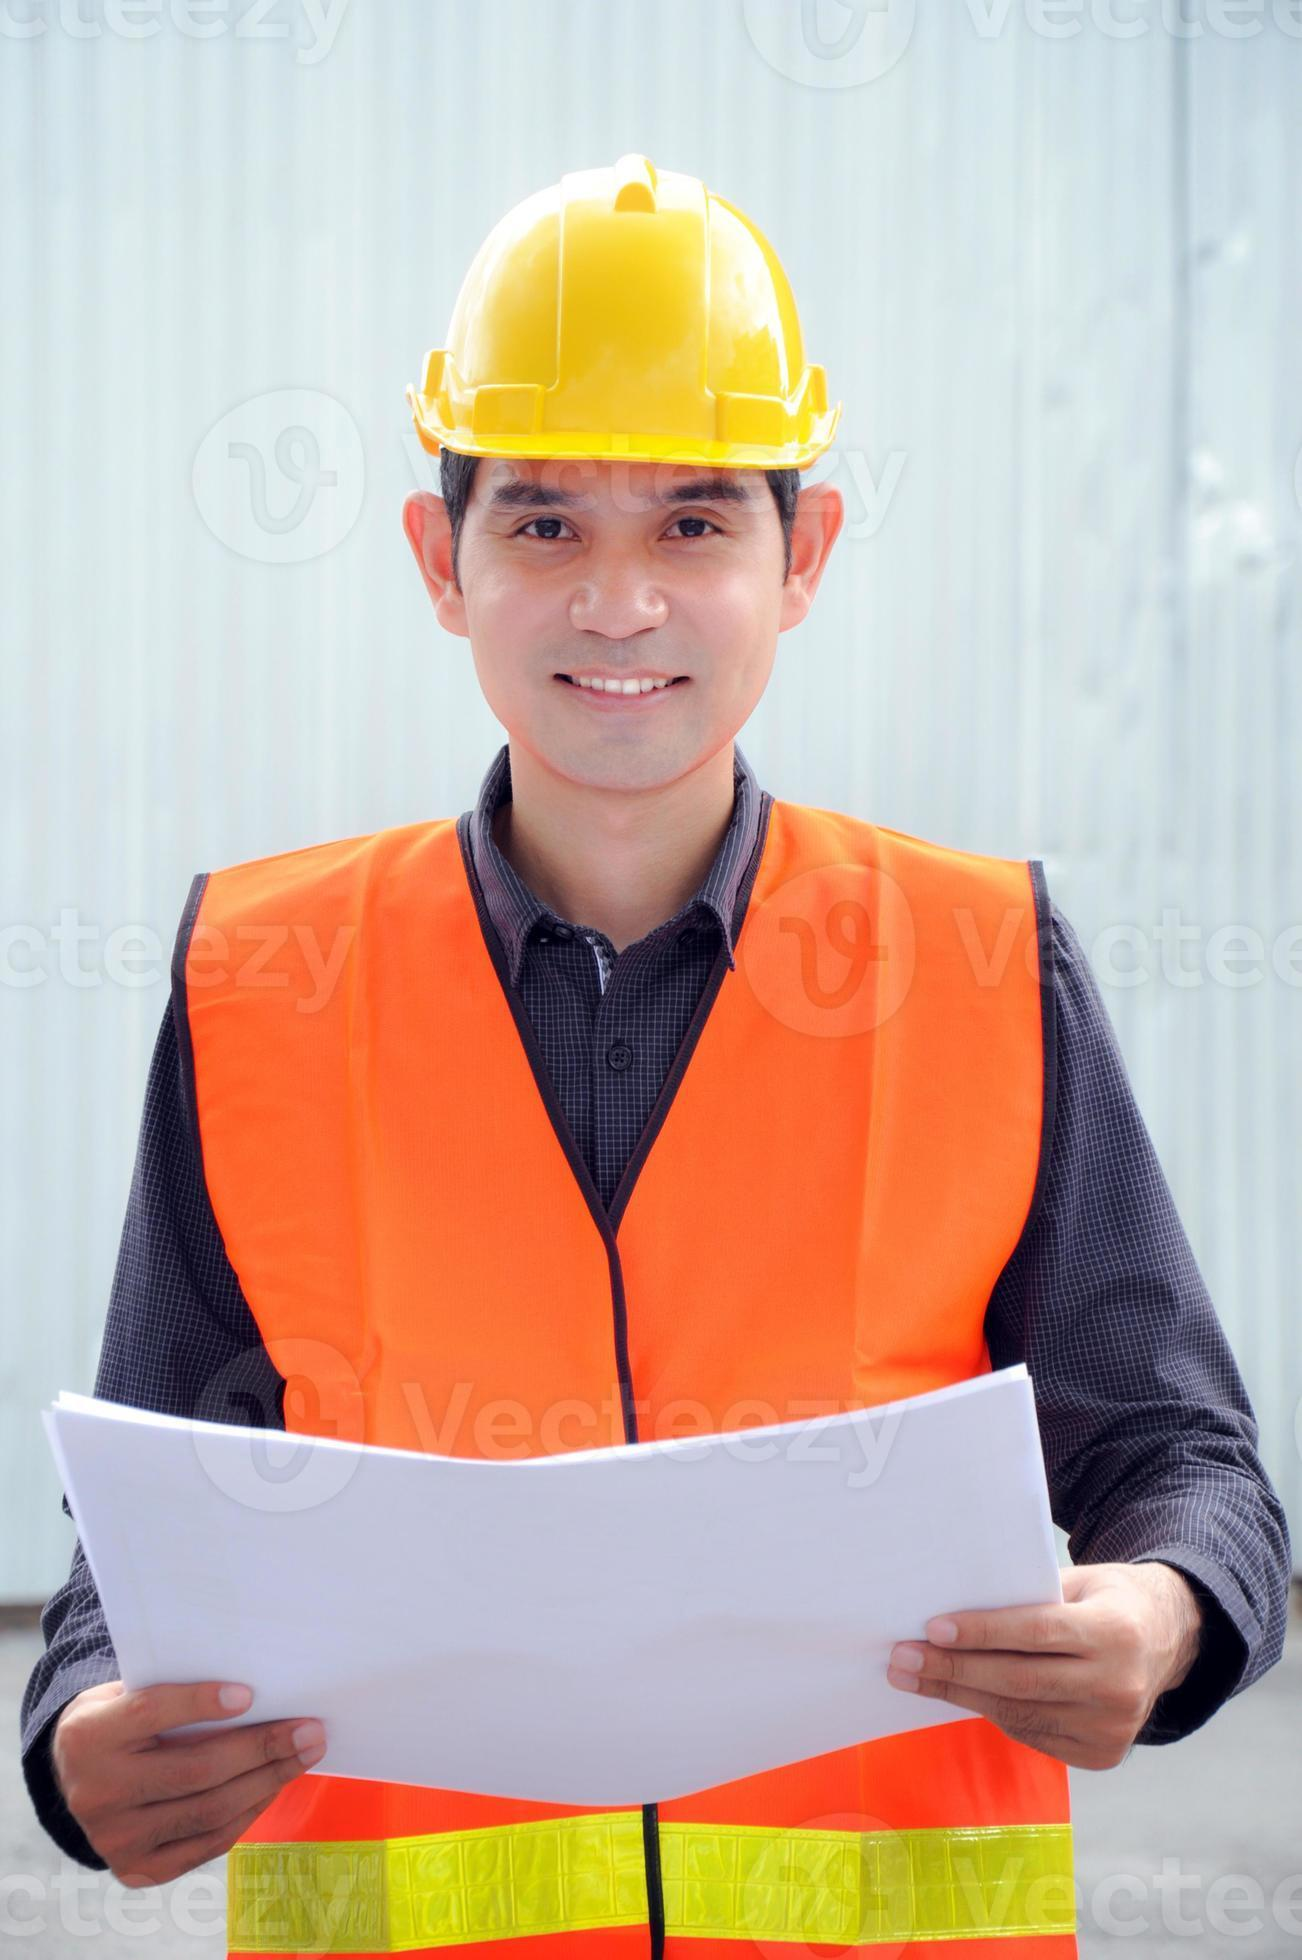hat: (411, 96, 926, 567)
vest: (141, 741, 1161, 1960)
